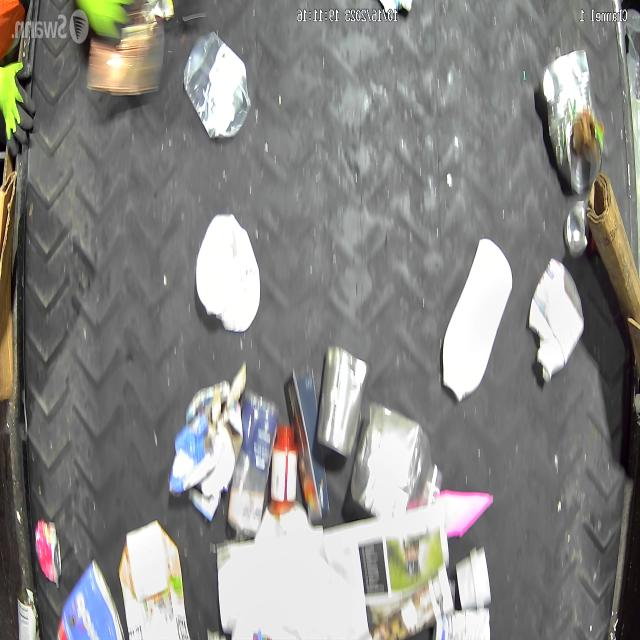can: (540, 46, 604, 194), (314, 340, 370, 466), (54, 559, 126, 640), (32, 515, 64, 584), (16, 582, 43, 640), (564, 199, 590, 257)
